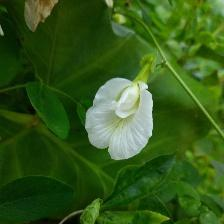shankupushpam: (84, 75, 158, 163)
